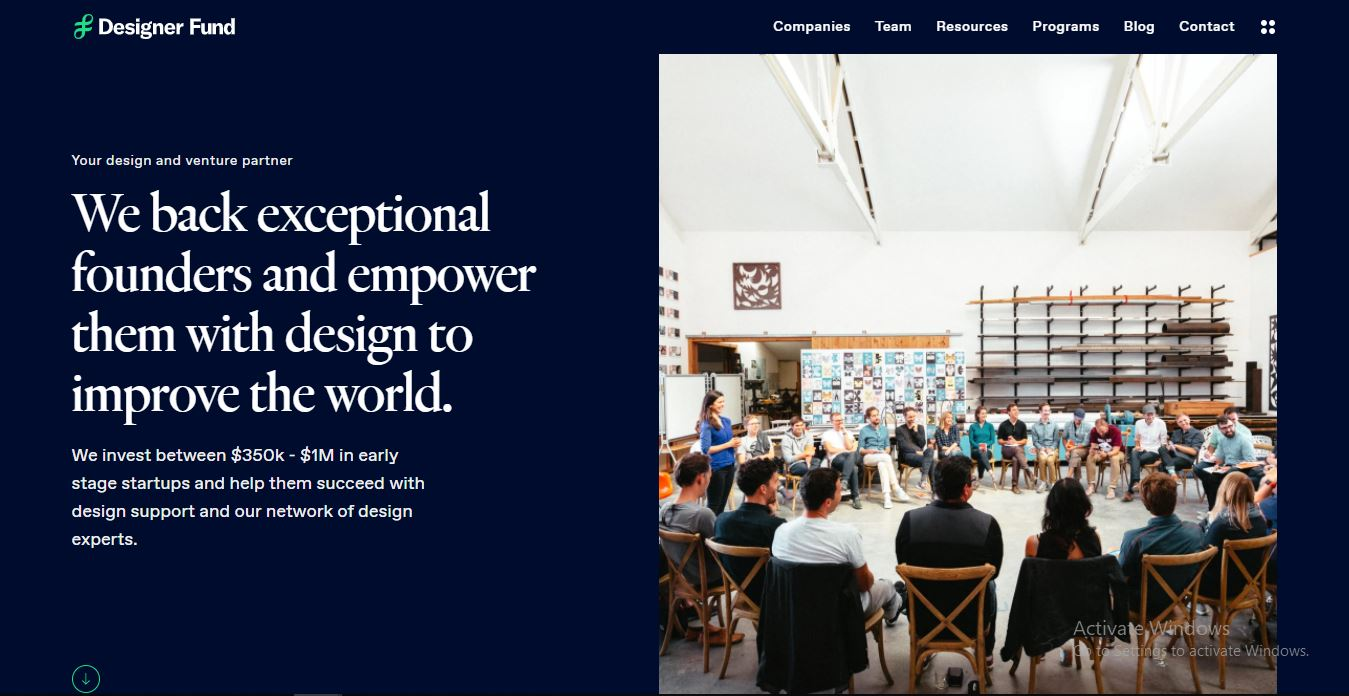Image: (659, 50, 1275, 696)
Menu Bar: (738, 2, 1250, 50)
